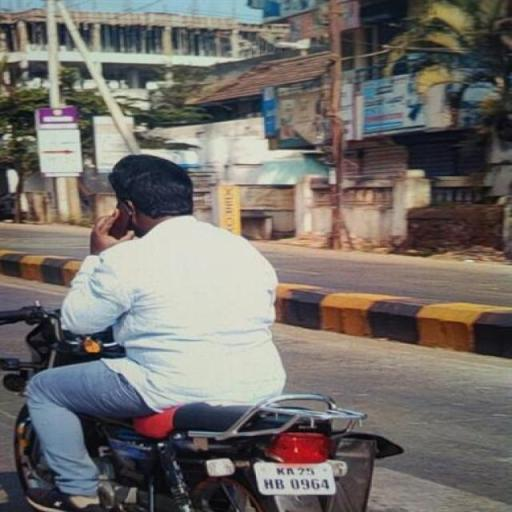numberplate: (258, 454, 340, 498)
using mobile: (93, 193, 147, 252)
